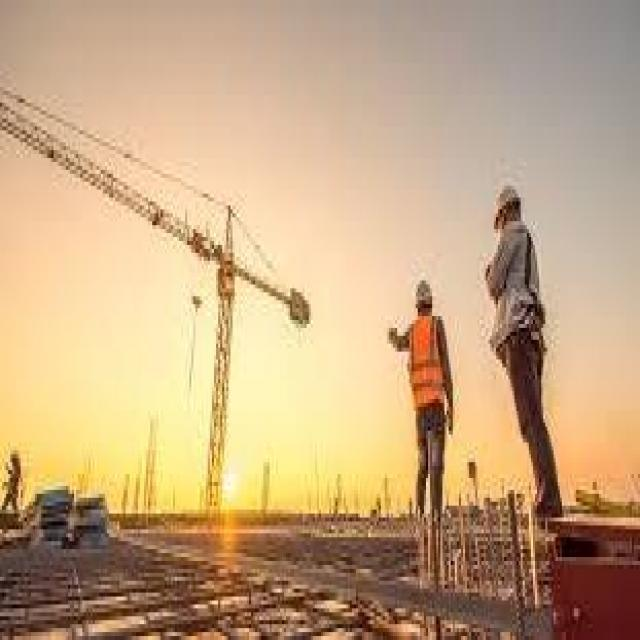reflective_jacket: (401, 308, 454, 422)
safety_helmet: (485, 169, 526, 229), (407, 260, 438, 312)
